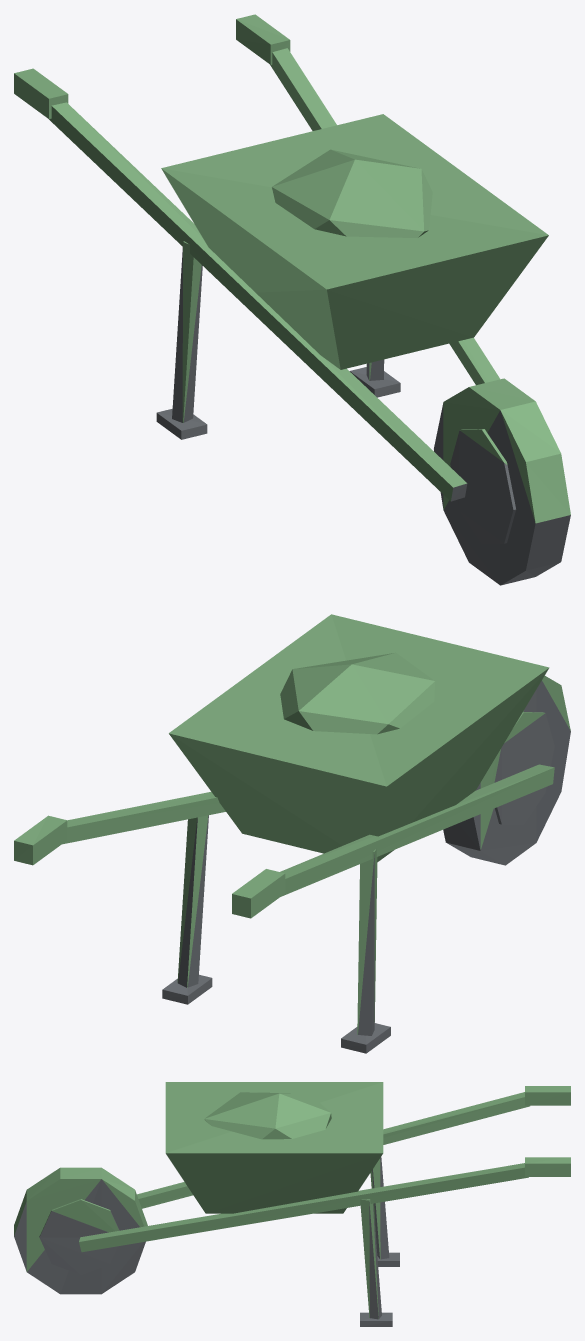
File: wheelbarrow-00.glb
The picture shows the model from 3 angles, top to bottom: view 1: azimuth 30°, elevation 25°; view 2: azimuth 150°, elevation 25°; view 3: azimuth 270°, elevation 25°; orthographic projection. The views are drawn at different scales.
Parts seen in each view (by area): view 1: wheelbarrow_00; view 2: wheelbarrow_00; view 3: wheelbarrow_00.
Part boxes in pixels (x1,y1,x2,y2): wheelbarrow_00: (14,14,570,585); wheelbarrow_00: (14,614,570,1053); wheelbarrow_00: (14,1082,570,1326).
Size of the model in its own units: 0.5583 by 0.6716 by 1.7.
